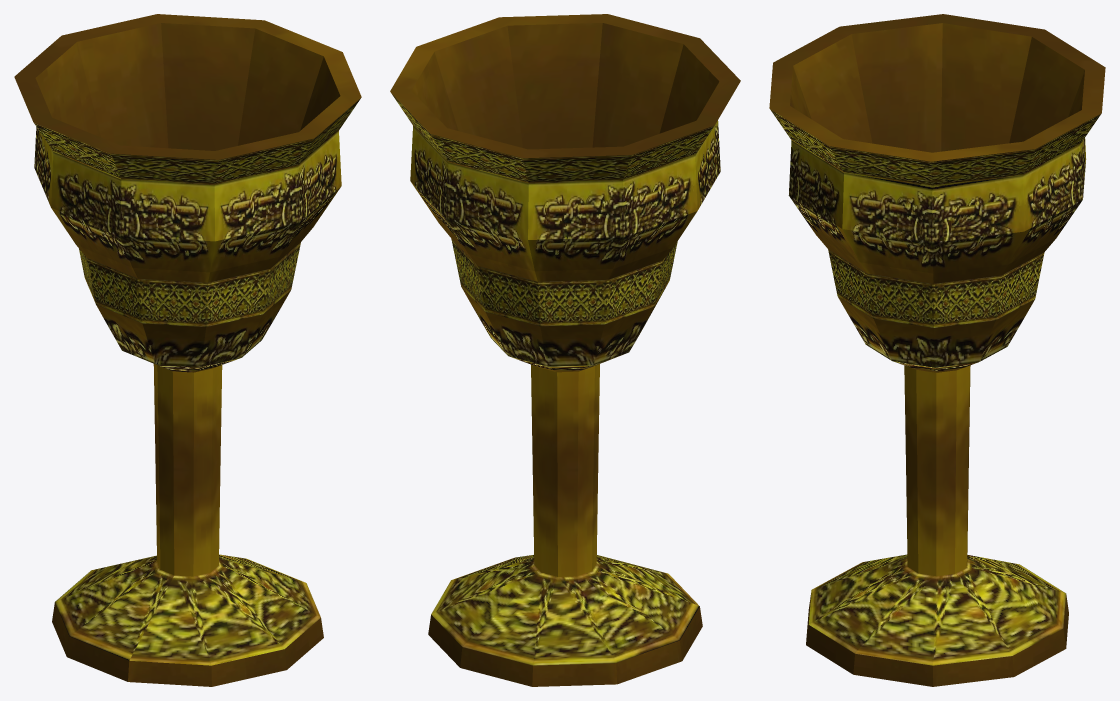
File: GS_MISC_GOLDGOBLET_01.glb
3 renders of one model, left to right at view 1: azimuth 30°, elevation 25°; view 2: azimuth 150°, elevation 25°; view 3: azimuth 270°, elevation 25°, orthographic.
Visible parts, largest first — view 1: GS_MISC_GOLDGOBLET_01; view 2: GS_MISC_GOLDGOBLET_01; view 3: GS_MISC_GOLDGOBLET_01.
Boxes of the visible parts, box(x1,y1,x2,y2) form: GS_MISC_GOLDGOBLET_01: box(14, 14, 361, 686); GS_MISC_GOLDGOBLET_01: box(390, 14, 740, 686); GS_MISC_GOLDGOBLET_01: box(769, 14, 1105, 686).
Size of the model in its own units: 0.1582 by 0.2702 by 0.1521.
1 material, 1 textured.
